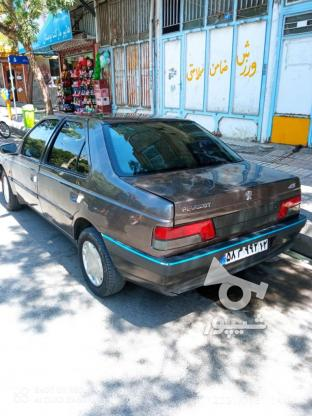car: (215, 236, 272, 269)
